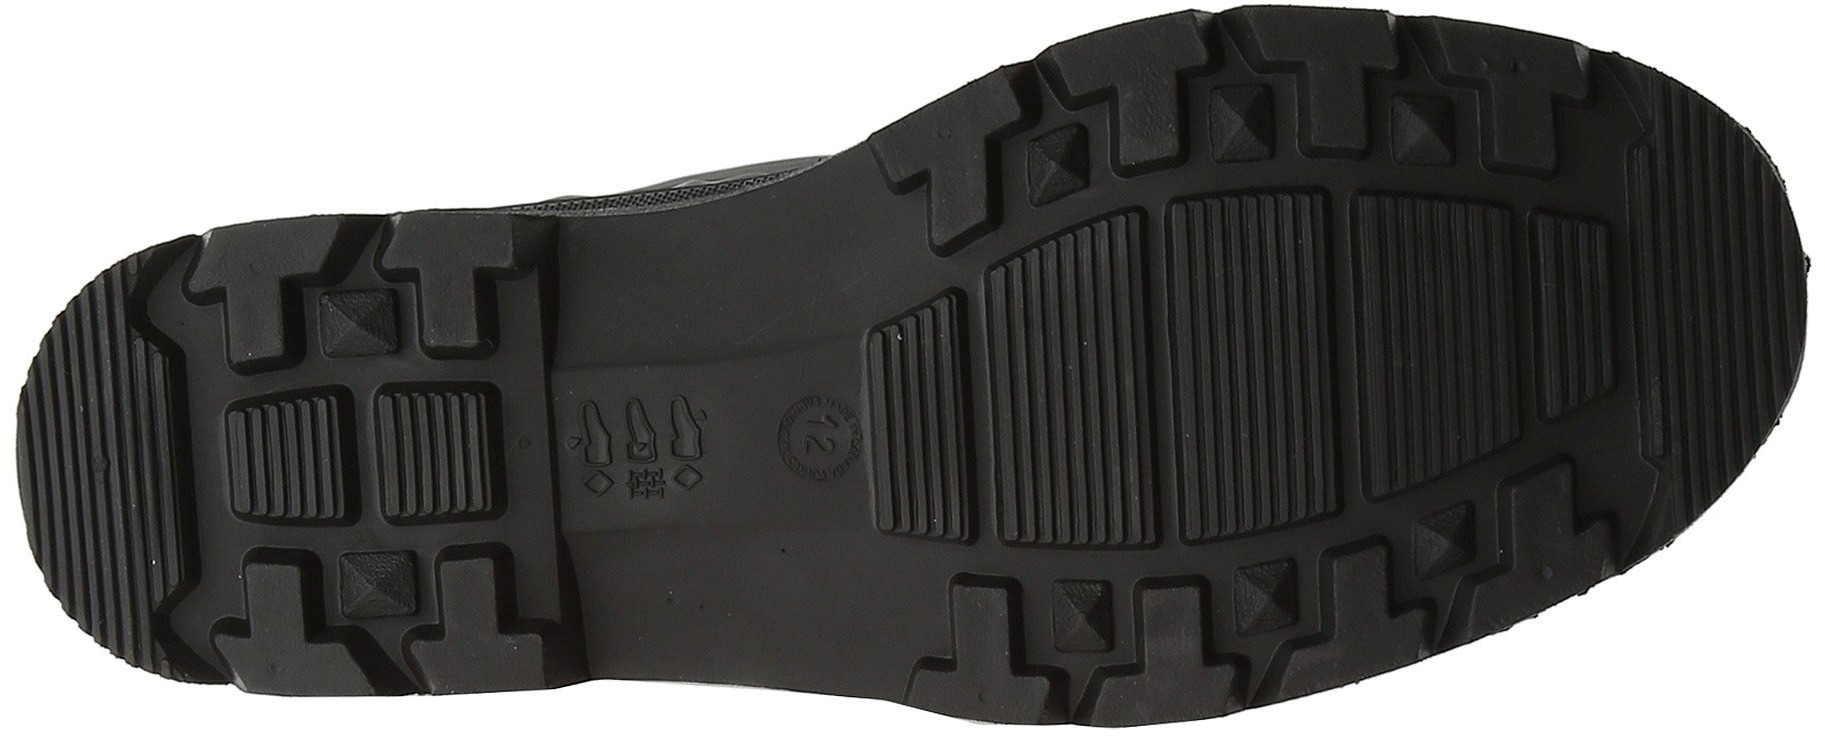other: (645, 528, 805, 679), (1636, 198, 1794, 351), (995, 282, 1142, 433), (1170, 227, 1325, 358), (635, 217, 779, 358), (29, 381, 165, 528), (1174, 388, 1322, 522), (1364, 233, 1501, 359), (857, 354, 964, 454), (381, 408, 488, 505), (235, 417, 338, 511)
text: (794, 406, 848, 465)
